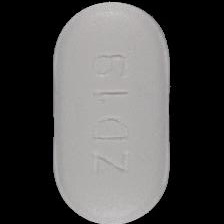68258-6040: (0, 0, 224, 224)
